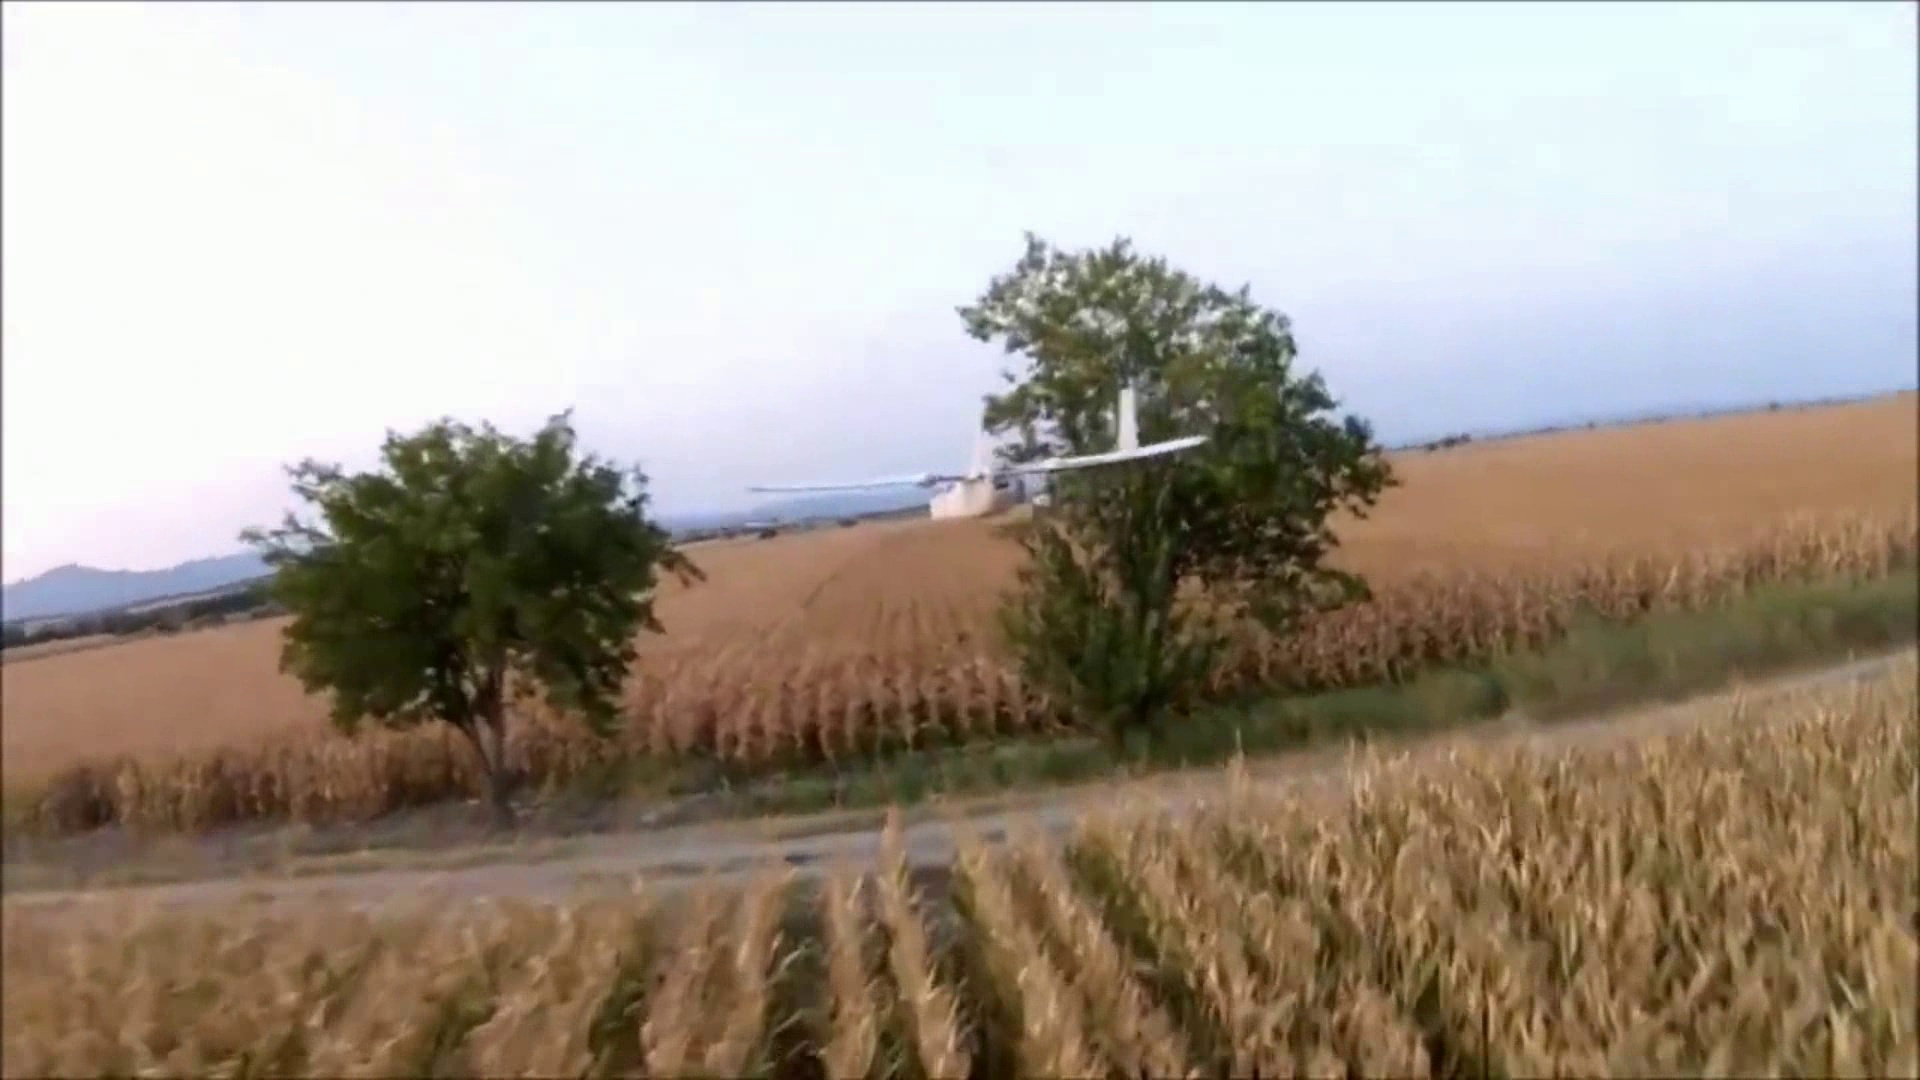airplane: (661, 433, 1207, 553)
